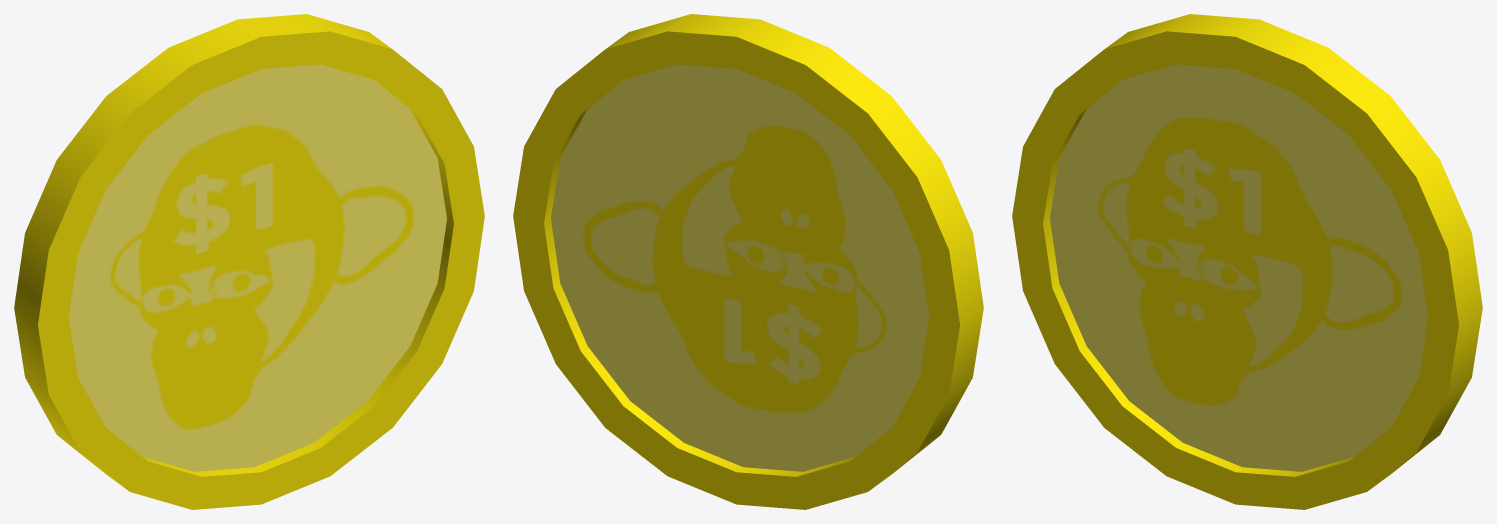
Rendered from Moneda.fbx.
The picture shows the model from 3 angles, left to right: view 1: azimuth 30°, elevation 25°; view 2: azimuth 150°, elevation 25°; view 3: azimuth 330°, elevation 25°; orthographic projection.
Visible parts, largest first — view 1: pCylinder1; view 2: pCylinder1; view 3: pCylinder1.
Boxes of the visible parts, box(x1,y1,x2,y2) form: pCylinder1: box(14, 14, 484, 509); pCylinder1: box(513, 14, 983, 509); pCylinder1: box(1012, 14, 1482, 509).
Bounding box in the file's own units: 11.77 × 11.77 × 1.08.
1 material, 1 textured.
